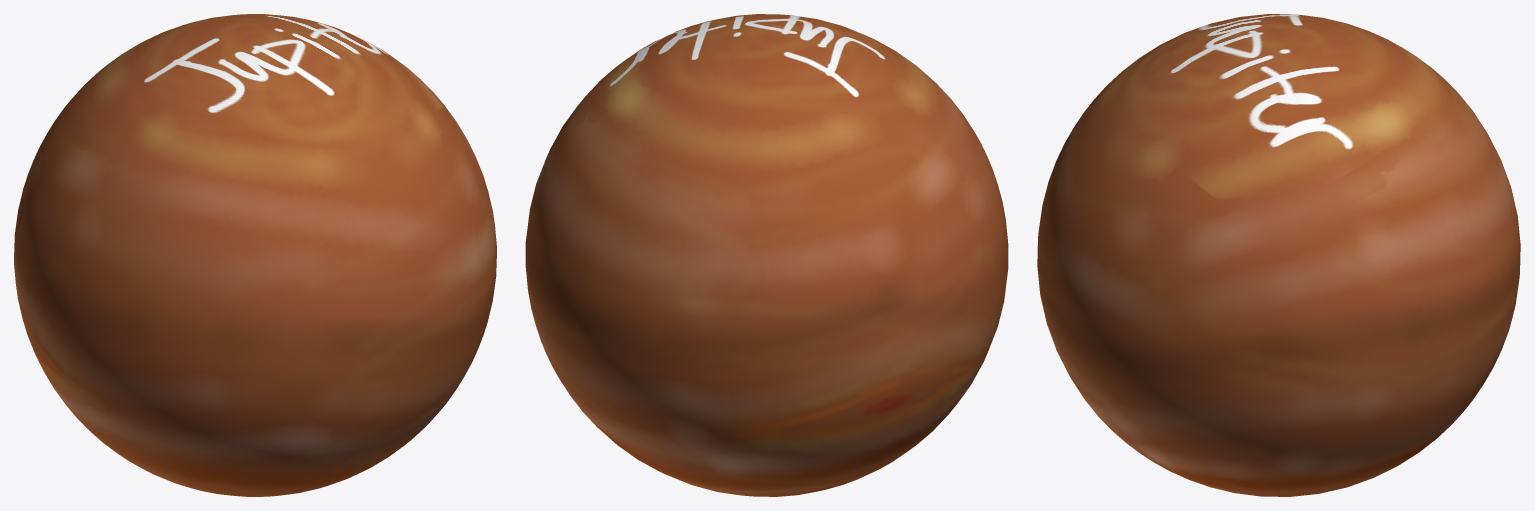
The model's file is jupiter.gltf.
3 views of the same model, side by side, from view 1: azimuth 30°, elevation 25°; view 2: azimuth 150°, elevation 25°; view 3: azimuth 270°, elevation 25° (orthographic).
Visible parts, largest first — view 1: mesh_id30; view 2: mesh_id30; view 3: mesh_id30.
Part boxes in pixels (x1,y1,x2,y2): mesh_id30: (14, 14, 496, 496); mesh_id30: (525, 14, 1008, 496); mesh_id30: (1037, 14, 1520, 496).
Bounding box in the file's own units: 0.7137 × 0.7142 × 0.7134.
1 material, 1 textured.
